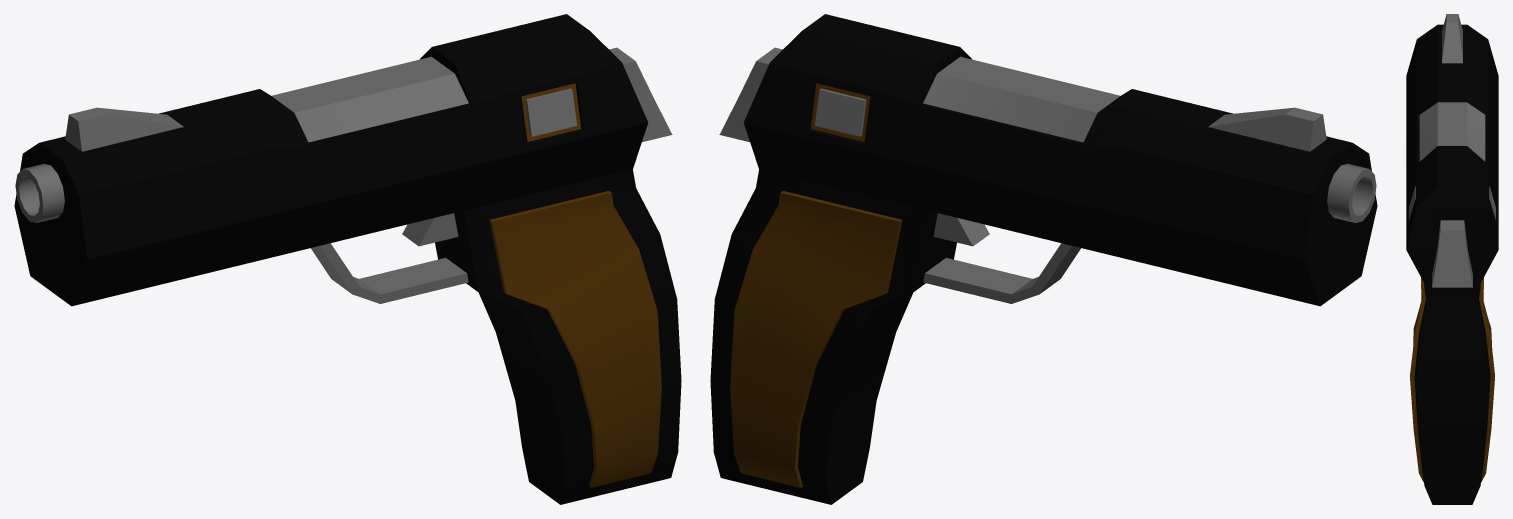
Rendered from Gun.fbx.
3 renders of one model, left to right at view 1: azimuth 30°, elevation 25°; view 2: azimuth 150°, elevation 25°; view 3: azimuth 270°, elevation 25°, orthographic. The views are drawn at different scales.
Visible parts, largest first — view 1: Cube, Cube.002, Cube.001, Cylinder, Cube.003; view 2: Cube, Cube.002, Cube.001, Cylinder, Cube.003; view 3: Cube, Cube.001.
Part boxes in pixels (x1=…): Cube: x1=14, y1=14, x2=681, y2=504; Cube.002: x1=311, y1=243, x2=468, y2=303; Cube.001: x1=65, y1=107, x2=183, y2=151; Cylinder: x1=15, y1=164, x2=64, y2=222; Cube.003: x1=402, y1=213, x2=458, y2=246; Cube: x1=710, y1=14, x2=1377, y2=504; Cube.002: x1=923, y1=243, x2=1080, y2=303; Cube.001: x1=1208, y1=107, x2=1326, y2=151; Cylinder: x1=1327, y1=164, x2=1376, y2=222; Cube.003: x1=933, y1=213, x2=989, y2=246; Cube: x1=1406, y1=24, x2=1498, y2=504; Cube.001: x1=1442, y1=14, x2=1462, y2=63.
Bounding box in the file's own units: 718 × 537 × 145.
